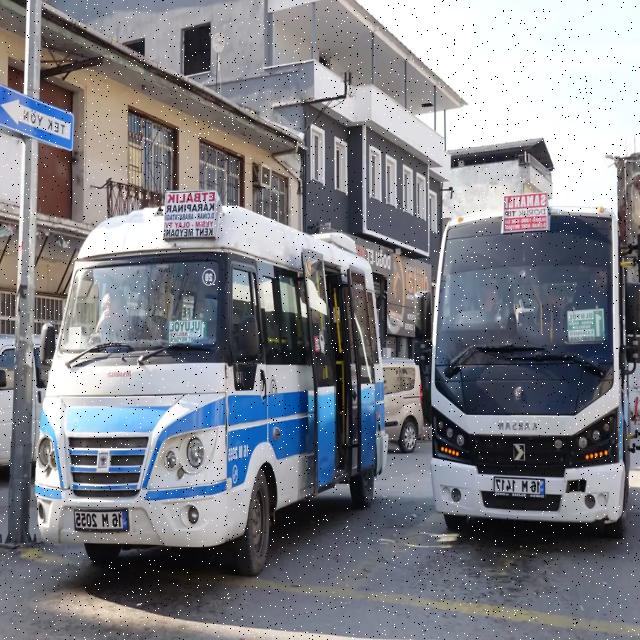bus: (35, 192, 386, 575), (430, 194, 639, 538)
